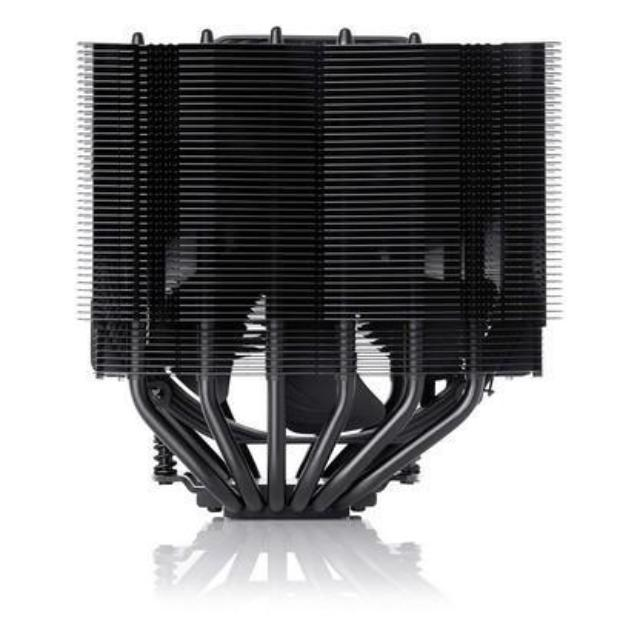CPU_Fan: (64, 18, 576, 534)
